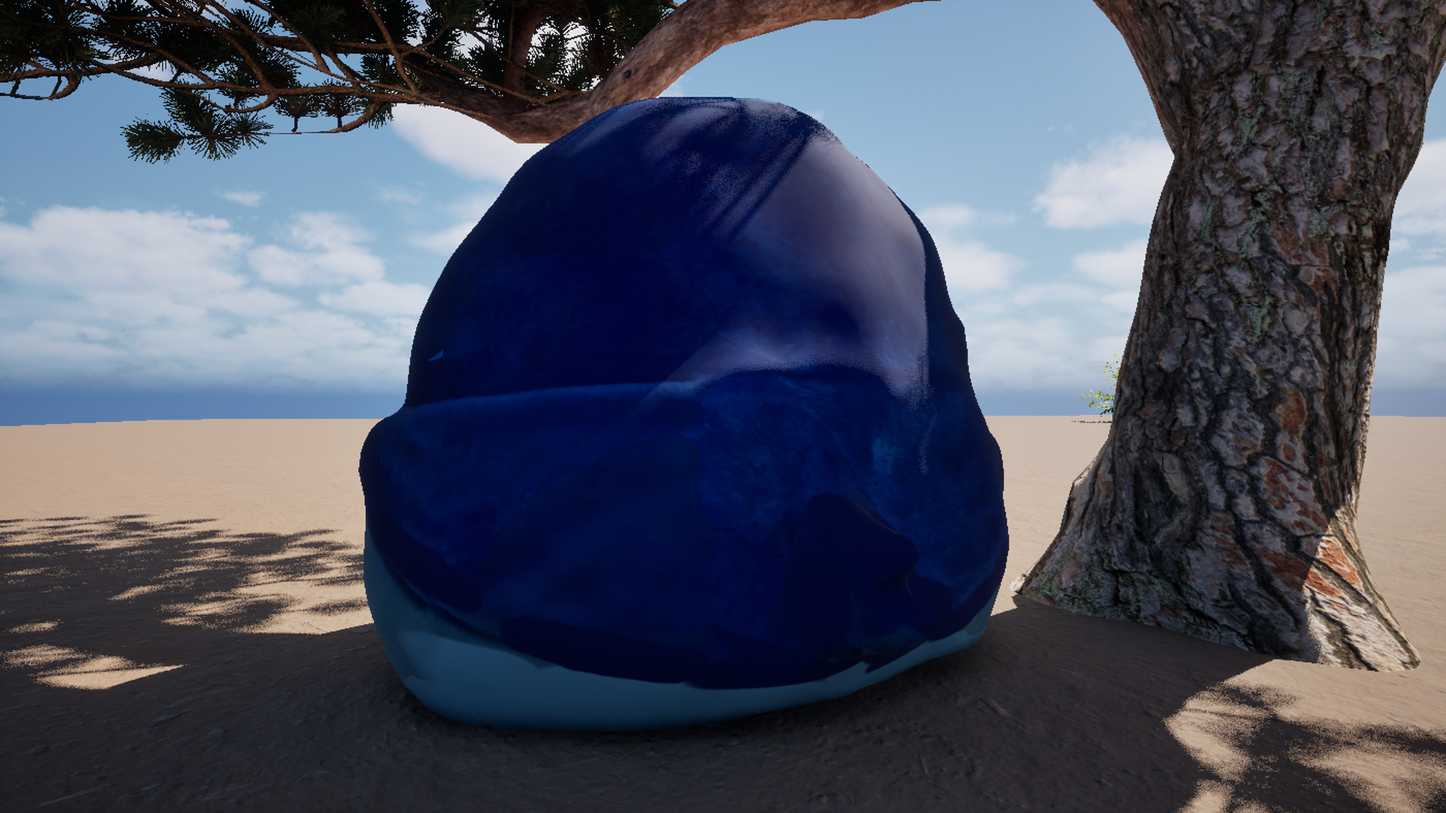Piplup: (250, 0, 1257, 813)
